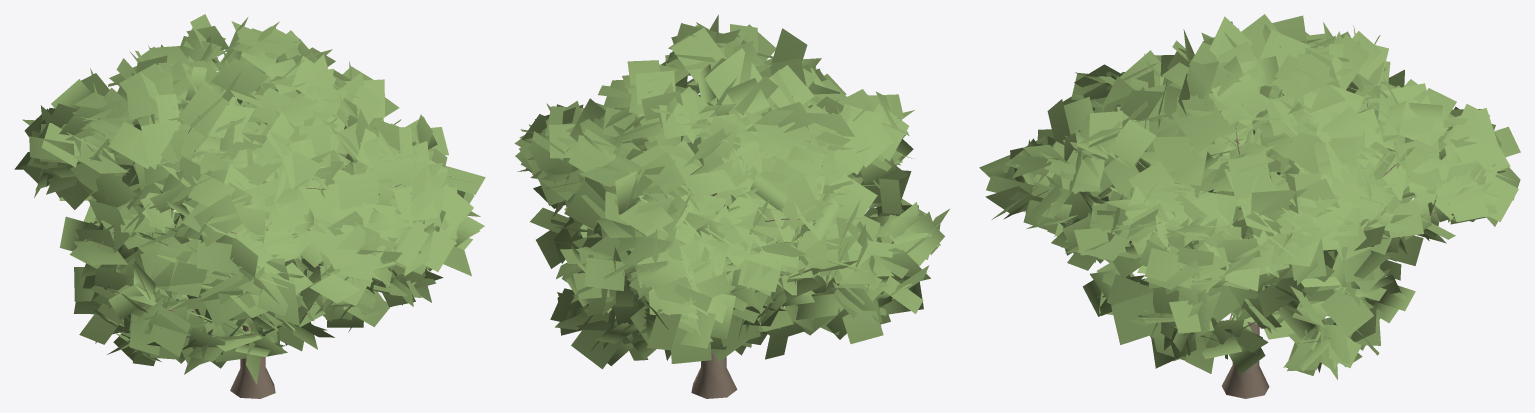
Rendered from Oak_1_lod1.glb.
3 views of the same model, side by side, from view 1: azimuth 30°, elevation 25°; view 2: azimuth 150°, elevation 25°; view 3: azimuth 270°, elevation 25° (orthographic). The views are drawn at different scales.
Parts seen in each view (by area): view 1: Oak_1_lod1; view 2: Oak_1_lod1; view 3: Oak_1_lod1.
Boxes of the visible parts, bbox=[...] form: Oak_1_lod1: bbox=[14, 14, 485, 398]; Oak_1_lod1: bbox=[514, 14, 949, 398]; Oak_1_lod1: bbox=[979, 14, 1520, 398].
Size of the model in its own units: 18.85 by 15.93 by 21.85.
